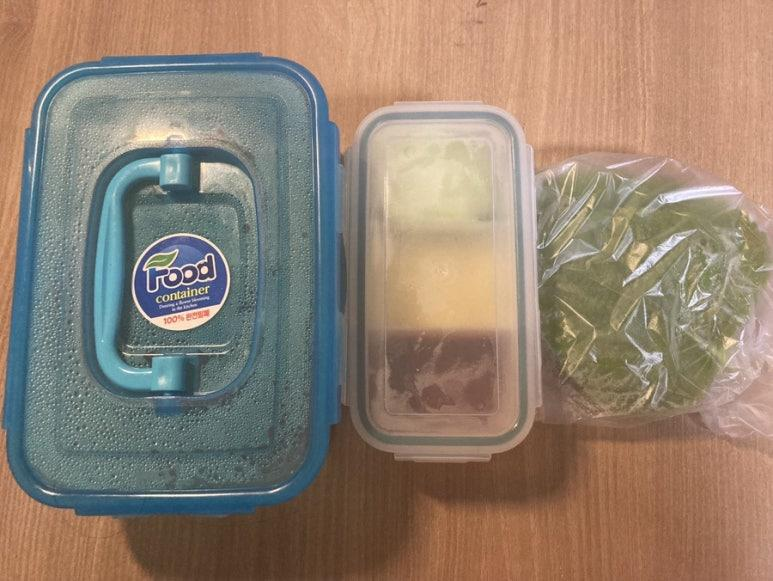Lunch Box: (3, 54, 341, 514), (341, 102, 540, 461)
